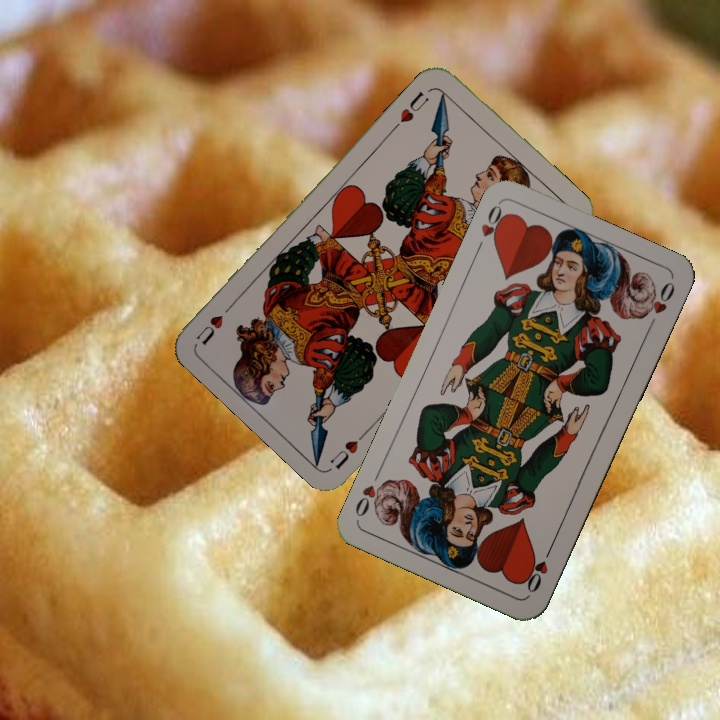HO: (472, 200, 511, 256), (520, 541, 556, 596)
HU: (326, 424, 373, 472), (390, 87, 432, 131)
